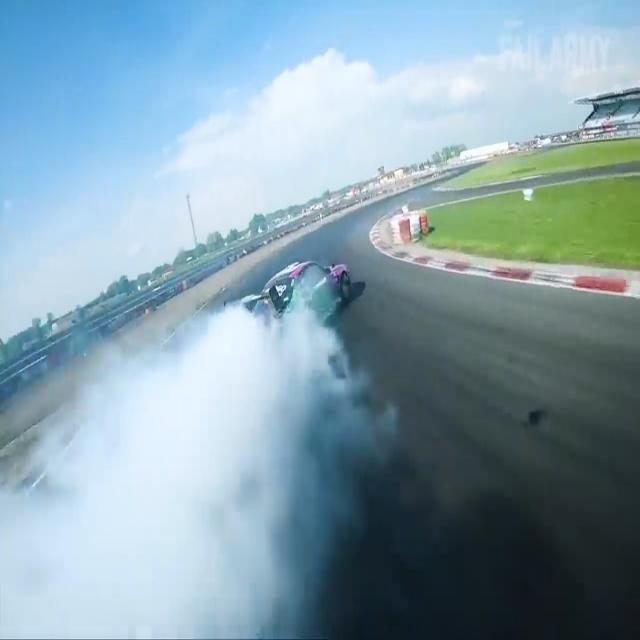Vehicle: (216, 250, 358, 362)
